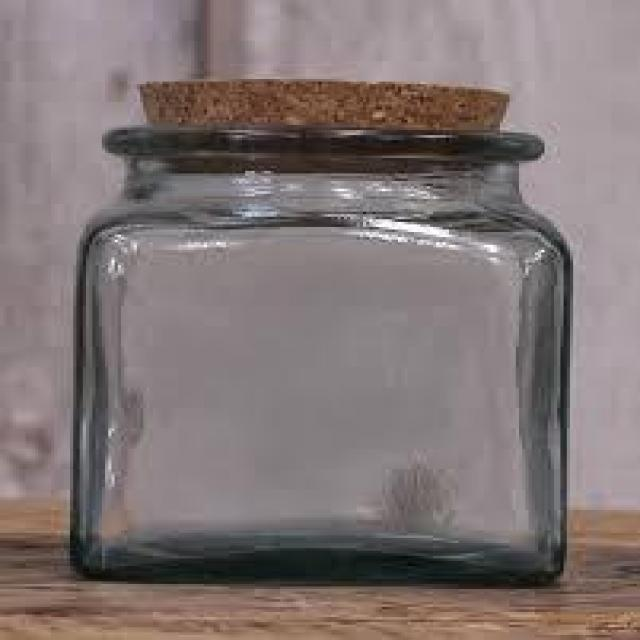glass: (73, 74, 573, 584)
